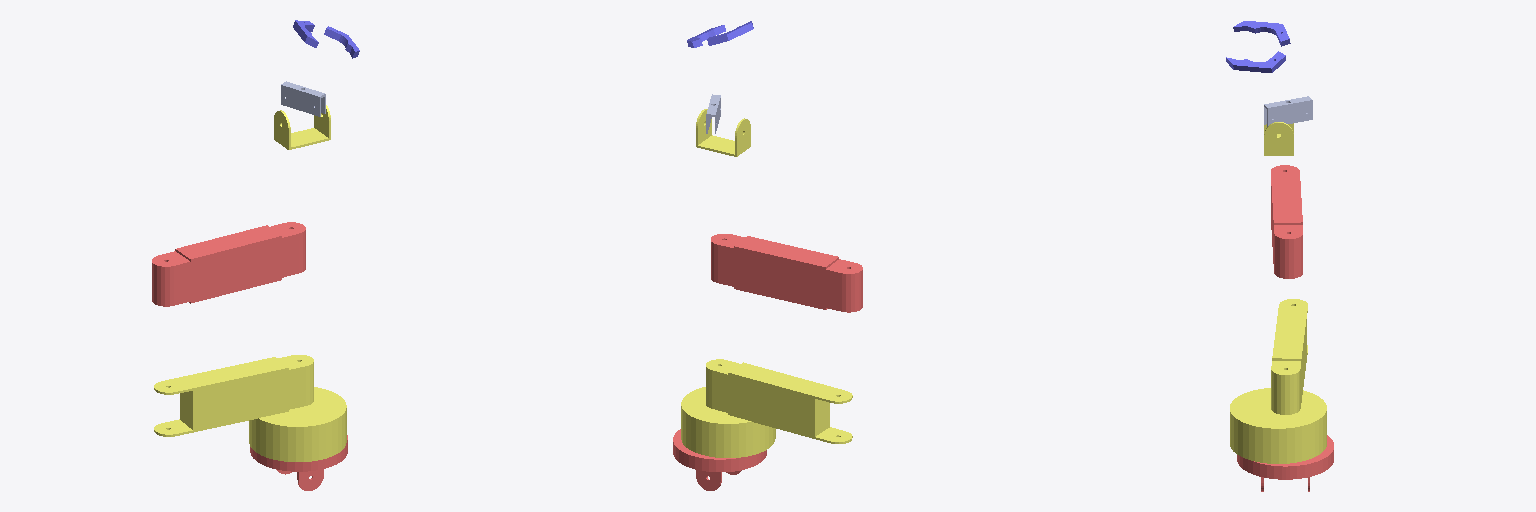
The robot description file, URDF, robot "sim assembly":
<?xml version="1.0" encoding="utf-8"?>
<!-- This URDF was automatically created by SolidWorks to URDF Exporter! Originally created by [author] ([email redacted]) 
     Commit Version: 1.6.0-4-g7f85cfe  Build Version: 1.6.7995.38578
     For more information, please see http://wiki.ros.org/sw_urdf_exporter -->
<robot
  name="sim assembly">
  <link
    name="base_link">
    <inertial>
      <origin
        xyz="-0.0115447407848694 0.0609398552650222 0.014868409560258"
        rpy="0 0 0" />
      <mass
        value="2.51319715385182" />
      <inertia
        ixx="0.00762348083787246"
        ixy="-1.72626756078402E-17"
        ixz="-8.67366172021146E-19"
        iyy="0.0125663701429239"
        iyz="-5.83014458174306E-20"
        izz="0.00762348083787245" />
    </inertial>
    <visual>
      <origin
        xyz="0 0 0"
        rpy="0 0 0" />
      <geometry>
        <mesh
          filename="package://sim assembly/meshes/base_link.STL" />
      </geometry>
      <material
        name="">
        <color
          rgba="1 1 0.501960784313725 1" />
      </material>
    </visual>
    <collision>
      <origin
        xyz="0 0 0"
        rpy="0 0 0" />
      <geometry>
        <mesh
          filename="package://sim assembly/meshes/base_link.STL" />
      </geometry>
    </collision>
  </link>
  <link
    name="link_1">
    <inertial>
      <origin
        xyz="-3.46944695195361E-18 -1.73472347597681E-18 0.00372567937390752"
        rpy="0 0 0" />
      <mass
        value="1.00675259583468" />
      <inertia
        ixx="0.00255667430558721"
        ixy="0"
        ixz="-4.15944314813778E-19"
        iyy="0.00247257251492068"
        iyz="-2.36751593219894E-20"
        izz="0.00483344220726245" />
    </inertial>
    <visual>
      <origin
        xyz="0 0 0"
        rpy="0 0 0" />
      <geometry>
        <mesh
          filename="package://sim assembly/meshes/link_1.STL" />
      </geometry>
      <material
        name="">
        <color
          rgba="1 0.501960784313725 0.501960784313725 1" />
      </material>
    </visual>
    <collision>
      <origin
        xyz="0 0 0"
        rpy="0 0 0" />
      <geometry>
        <mesh
          filename="package://sim assembly/meshes/link_1.STL" />
      </geometry>
    </collision>
  </link>
  <joint
    name="joint_1"
    type="revolute">
    <origin
      xyz="0 0 0"
      rpy="0 0 0" />
    <parent
      link="base_link" />
    <child
      link="link_1" />
    <axis
      xyz="0 0 1" />
    <limit
      lower="0"
      upper="0"
      effort="0"
      velocity="0" />
  </joint>
  <link
    name="link_2">
    <inertial>
      <origin
        xyz="-0.124052366257305 0.000273518659855407 6.07153216591882E-16"
        rpy="0 0 0" />
      <mass
        value="1.69351768777757" />
      <inertia
        ixx="0.00191102427804702"
        ixy="3.31020475786981E-18"
        ixz="4.06575814682064E-20"
        iyy="0.0133365104968532"
        iyz="4.33680868994202E-19"
        izz="0.0124250052952709" />
    </inertial>
    <visual>
      <origin
        xyz="0 0 0"
        rpy="0 0 0" />
      <geometry>
        <mesh
          filename="package://sim assembly/meshes/link_2.STL" />
      </geometry>
      <material
        name="">
        <color
          rgba="1 1 0.501960784313725 1" />
      </material>
    </visual>
    <collision>
      <origin
        xyz="0 0 0"
        rpy="0 0 0" />
      <geometry>
        <mesh
          filename="package://sim assembly/meshes/link_2.STL" />
      </geometry>
    </collision>
  </link>
  <joint
    name="joint_2"
    type="revolute">
    <origin
      xyz="0 0 0.15"
      rpy="0 0 0" />
    <parent
      link="link_1" />
    <child
      link="link_2" />
    <axis
      xyz="0 1 0" />
    <limit
      lower="0"
      upper="0"
      effort="0"
      velocity="0" />
  </joint>
  <link
    name="link_3">
    <inertial>
      <origin
        xyz="-0.15 1.11022302462516E-16 2.70616862252382E-16"
        rpy="0 0 0" />
      <mass
        value="1.99233183799962" />
      <inertia
        ixx="0.00213659115946803"
        ixy="1.03676832743926E-17"
        ixz="6.23416249179165E-18"
        iyy="0.0206728575144595"
        iyz="0"
        izz="0.019701800692628" />
    </inertial>
    <visual>
      <origin
        xyz="0 0 0"
        rpy="0 0 0" />
      <geometry>
        <mesh
          filename="package://sim assembly/meshes/link_3.STL" />
      </geometry>
      <material
        name="">
        <color
          rgba="1 0.501960784313725 0.501960784313725 1" />
      </material>
    </visual>
    <collision>
      <origin
        xyz="0 0 0"
        rpy="0 0 0" />
      <geometry>
        <mesh
          filename="package://sim assembly/meshes/link_3.STL" />
      </geometry>
    </collision>
  </link>
  <joint
    name="joint_3"
    type="revolute">
    <origin
      xyz="0 0 0.3"
      rpy="0 0 0" />
    <parent
      link="link_2" />
    <child
      link="link_3" />
    <axis
      xyz="0 1 0" />
    <limit
      lower="0"
      upper="0"
      effort="0"
      velocity="0" />
  </joint>
  <link
    name="link_4">
    <inertial>
      <origin
        xyz="-0.00218769109391546 -2.22044604925031E-16 -0.0256375249538302"
        rpy="0 0 0" />
      <mass
        value="0.065137166941154" />
      <inertia
        ixx="2.94291201232329E-05"
        ixy="1.77876918923403E-20"
        ixz="-1.35525271560688E-20"
        iyy="3.60247324849482E-05"
        iyz="2.51992301808154E-20"
        izz="4.35573374852346E-05" />
    </inertial>
    <visual>
      <origin
        xyz="0 0 0"
        rpy="0 0 0" />
      <geometry>
        <mesh
          filename="package://sim assembly/meshes/link_4.STL" />
      </geometry>
      <material
        name="">
        <color
          rgba="1 1 0.501960784313725 1" />
      </material>
    </visual>
    <collision>
      <origin
        xyz="0 0 0"
        rpy="0 0 0" />
      <geometry>
        <mesh
          filename="package://sim assembly/meshes/link_4.STL" />
      </geometry>
    </collision>
  </link>
  <joint
    name="joint_4"
    type="revolute">
    <origin
      xyz="0 0 0.3"
      rpy="0 0 0" />
    <parent
      link="link_3" />
    <child
      link="link_4" />
    <axis
      xyz="0 0 1" />
    <limit
      lower="0"
      upper="0"
      effort="0"
      velocity="0" />
  </joint>
  <link
    name="link_5">
    <inertial>
      <origin
        xyz="-5.55111512312578E-17 -2.77555756156289E-17 -0.00863792273172934"
        rpy="0 0 0" />
      <mass
        value="0.0294109513774519" />
      <inertia
        ixx="3.06783737898048E-05"
        ixy="4.44692297308508E-20"
        ixz="-4.2351647362715E-22"
        iyy="7.8146618506747E-06"
        iyz="-1.73641754187132E-20"
        izz="2.65785326463946E-05" />
    </inertial>
    <visual>
      <origin
        xyz="0 0 0"
        rpy="0 0 0" />
      <geometry>
        <mesh
          filename="package://sim assembly/meshes/link_5.STL" />
      </geometry>
      <material
        name="">
        <color
          rgba="0.792156862745098 0.819607843137255 0.933333333333333 1" />
      </material>
    </visual>
    <collision>
      <origin
        xyz="0 0 0"
        rpy="0 0 0" />
      <geometry>
        <mesh
          filename="package://sim assembly/meshes/link_5.STL" />
      </geometry>
    </collision>
  </link>
  <joint
    name="joint_5"
    type="revolute">
    <origin
      xyz="0 0 0.05"
      rpy="0 0 0" />
    <parent
      link="link_4" />
    <child
      link="link_5" />
    <axis
      xyz="0 1 0" />
    <limit
      lower="0"
      upper="0"
      effort="0"
      velocity="0" />
  </joint>
  <link
    name="link_6">
    <inertial>
      <origin
        xyz="0.0322641384583597 -0.0401523836542004 1.11022302462516E-16"
        rpy="0 0 0" />
      <mass
        value="0.0644367967662147" />
      <inertia
        ixx="7.05472756814348E-05"
        ixy="-8.65992809126488E-06"
        ixz="2.03287907341032E-20"
        iyy="8.42898505619135E-06"
        iyz="-6.01922788142587E-20"
        izz="7.65598808588931E-05" />
    </inertial>
    <visual>
      <origin
        xyz="0 0 0"
        rpy="0 0 0" />
      <geometry>
        <mesh
          filename="package://sim assembly/meshes/link_6.STL" />
      </geometry>
      <material
        name="">
        <color
          rgba="0.501960784313725 0.501960784313725 1 1" />
      </material>
    </visual>
    <collision>
      <origin
        xyz="0 0 0"
        rpy="0 0 0" />
      <geometry>
        <mesh
          filename="package://sim assembly/meshes/link_6.STL" />
      </geometry>
    </collision>
  </link>
  <joint
    name="joint_6"
    type="revolute">
    <origin
      xyz="0 0 0.125"
      rpy="0 0 0" />
    <parent
      link="link_5" />
    <child
      link="link_6" />
    <axis
      xyz="0 0 1" />
    <limit
      lower="0"
      upper="0"
      effort="0"
      velocity="0" />
  </joint>
</robot>

--- What the picture shows (computed from the rendered views, not written in the file) ---
The picture shows the robot from 3 angles, left to right: view 1: azimuth 30°, elevation 25°; view 2: azimuth 150°, elevation 25°; view 3: azimuth 270°, elevation 25°; orthographic projection.
Robot: sim assembly — 7 links, 6 joints (6 revolute); root link base_link; default pose: all joints at 0.
Visible links, largest first — view 1: link_3, link_2, base_link, link_1, link_4, link_5, link_6; view 2: link_3, link_2, base_link, link_1, link_4, link_6; view 3: base_link, link_2, link_3, link_1, link_6, link_5, link_4.
Boxes of the visible links, x1=… form: link_3: x1=152, y1=222, x2=305, y2=306; link_2: x1=154, y1=355, x2=313, y2=436; base_link: x1=249, y1=387, x2=346, y2=461; link_1: x1=250, y1=435, x2=347, y2=490; link_4: x1=274, y1=105, x2=330, y2=149; link_5: x1=281, y1=81, x2=325, y2=116; link_6: x1=293, y1=20, x2=359, y2=58; link_3: x1=711, y1=234, x2=862, y2=312; link_2: x1=706, y1=359, x2=852, y2=443; base_link: x1=681, y1=387, x2=775, y2=457; link_1: x1=673, y1=429, x2=766, y2=490; link_4: x1=696, y1=109, x2=750, y2=156; link_6: x1=687, y1=21, x2=753, y2=47; base_link: x1=1230, y1=388, x2=1326, y2=463; link_2: x1=1271, y1=299, x2=1307, y2=414; link_3: x1=1271, y1=165, x2=1302, y2=278; link_1: x1=1237, y1=435, x2=1333, y2=491; link_6: x1=1226, y1=21, x2=1290, y2=72; link_5: x1=1264, y1=96, x2=1312, y2=126; link_4: x1=1264, y1=122, x2=1293, y2=155.
Bounding box of the posed robot: 0.4446 × 0.223 × 1.05 m (x, y, z).
Meshes: 7 distinct files referenced, 7 mesh visuals loaded (7 binary STL).